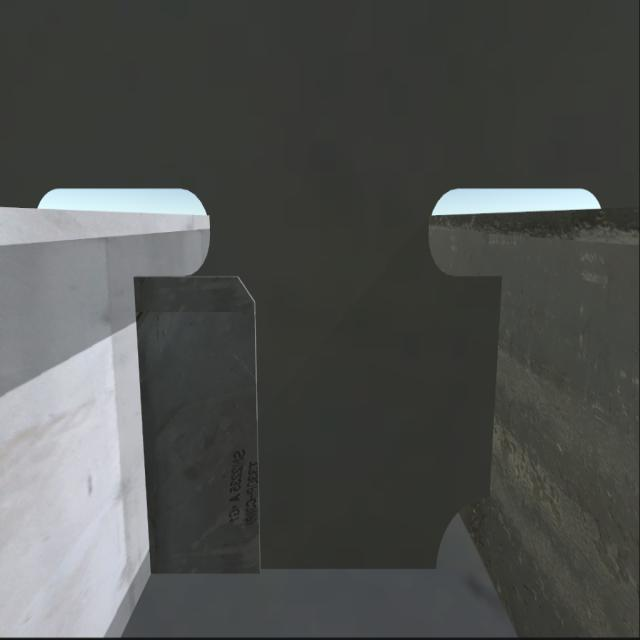fillet_hole: (436, 500, 482, 564)
fillet_yong_jeop_jang: (134, 551, 446, 580)
longi_yong_jeop_jang: (472, 265, 507, 503), (136, 265, 158, 579)
plate_CP03: (147, 271, 259, 569)
